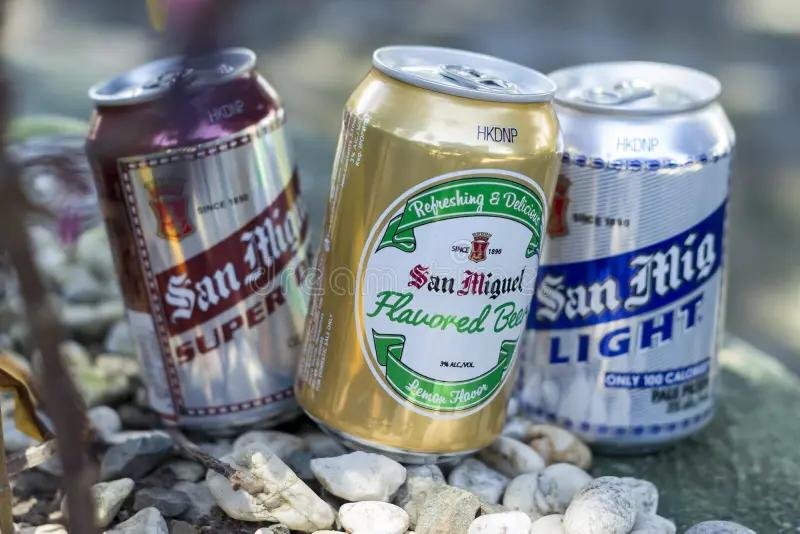can: (296, 46, 561, 462), (513, 61, 734, 453), (86, 48, 307, 429)
